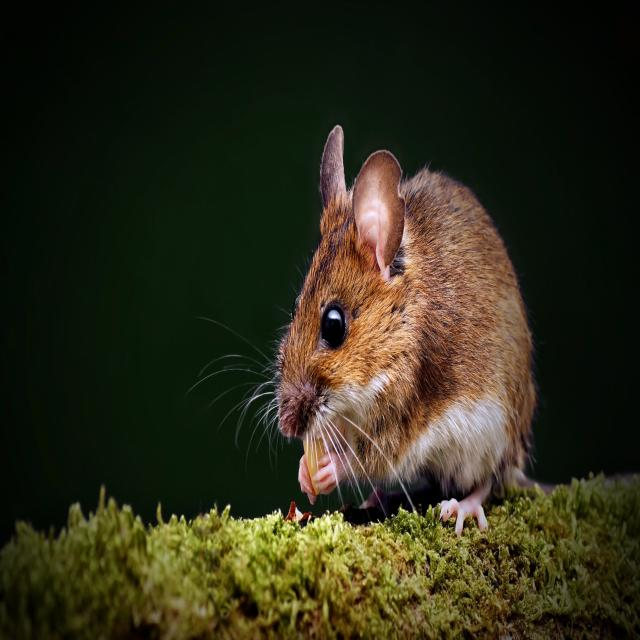rat: (258, 106, 554, 536)
